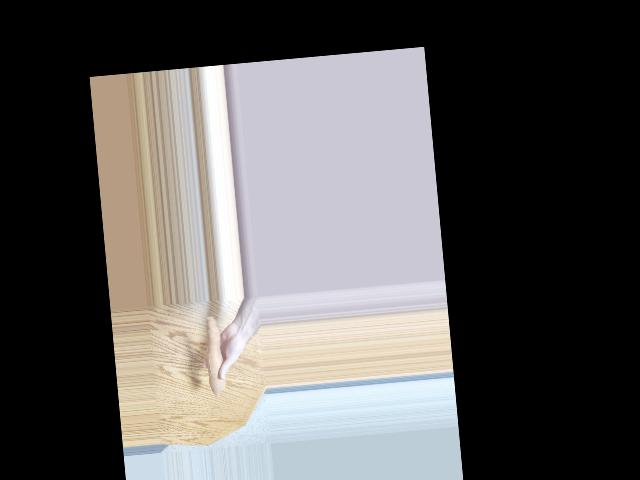sweet_potato: (200, 315, 229, 392)
